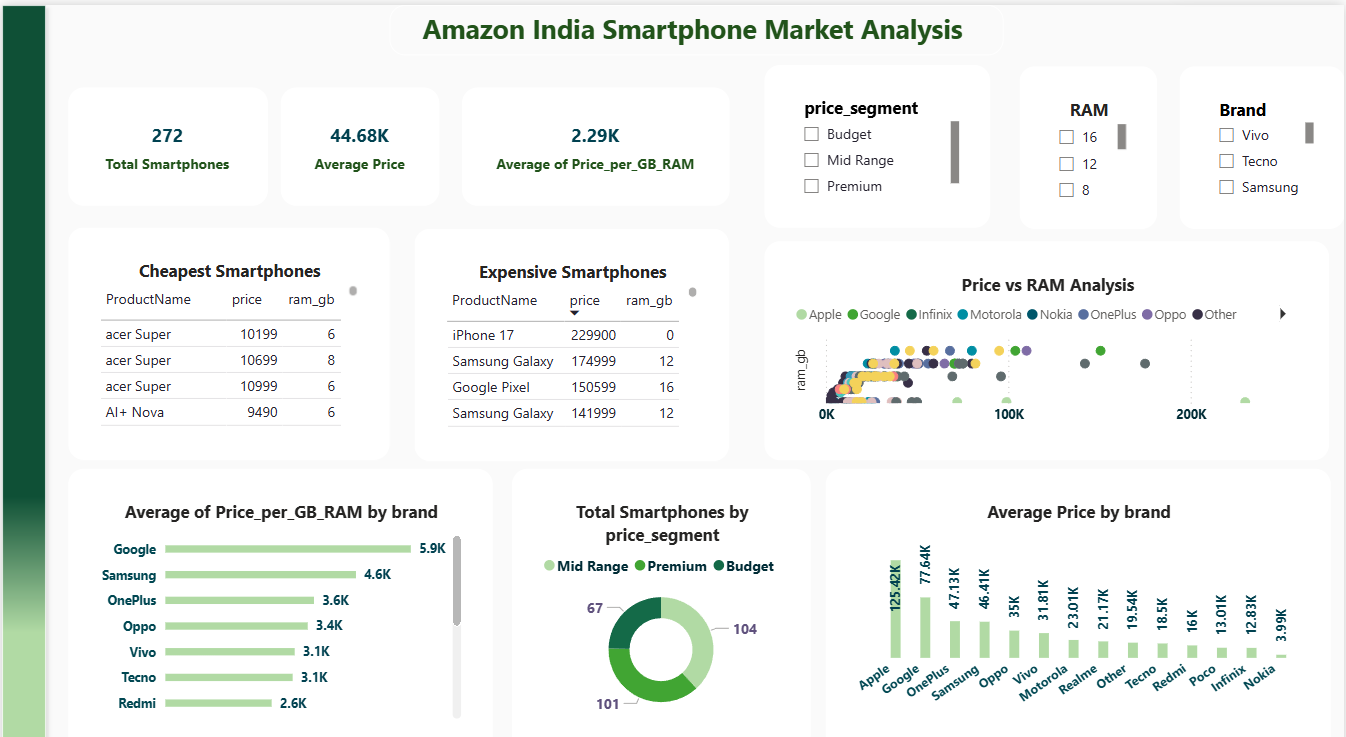

What the dashboard file says about the page in this screenshot:
{"tool":"powerbi","page":{"name":"Page 1","canvas":[1280,720],"ordinal":0},"visuals":[{"type":"card","fields":{"Values":["amazon_smartphones_structured_final.Total Smartphones"]},"box":[63.8,78.8,190,112.5],"z":0},{"type":"card","fields":{"Values":["amazon_smartphones_structured_final.Average Price"]},"box":[266.2,78.8,151.2,112.5],"z":1000},{"type":"donutChart","fields":{"Category":["amazon_smartphones_structured_final.price_segment"],"Y":["amazon_smartphones_structured_final.Total Smartphones"]},"box":[486.2,442.5,285,268.8],"z":2000},{"type":"slicer","fields":{"Values":["amazon_smartphones_structured_final.brand"]},"box":[1122.3,57.9,157.7,155.2],"z":3000},{"type":"slicer","fields":{"Values":["amazon_smartphones_structured_final.price_segment"]},"box":[727.5,57.5,215,155],"z":4000},{"type":"clusteredColumnChart","fields":{"Y":["amazon_smartphones_structured_final.Average Price"],"Category":["amazon_smartphones_structured_final.brand"]},"box":[785,442.5,481.2,268.8],"z":5000},{"type":"barChart","fields":{"Category":["amazon_smartphones_structured_final.brand"],"Y":["Avg(amazon_smartphones_structured_final.Price_per_GB_RAM)"]},"box":[63.8,442.5,405,268.8],"z":6000},{"type":"scatterChart","title":"Price vs RAM Analysis","fields":{"X":["amazon_smartphones_structured_final.price"],"Y":["amazon_smartphones_structured_final.ram_gb"],"Series":["amazon_smartphones_structured_final.brand"]},"box":[727.5,225,538.8,208.8],"z":7000},{"type":"textbox","box":[369.5,0,585.3,47.7],"z":8000},{"type":"slicer","title":"RAM ","fields":{"Values":["amazon_smartphones_structured_final.ram_gb"]},"box":[970,58.8,131.2,155],"z":9000},{"type":"tableEx","title":"Cheapest  Smartphones","fields":{"Values":["amazon_smartphones_structured_final.ProductName","amazon_smartphones_structured_final.price","amazon_smartphones_structured_final.ram_gb"]},"box":[63.8,212.5,306.2,221.2],"z":9001},{"type":"tableEx","title":"Expensive Smartphones","fields":{"Values":["amazon_smartphones_structured_final.ProductName","amazon_smartphones_structured_final.price","amazon_smartphones_structured_final.ram_gb"]},"box":[393.8,213.8,300,221.2],"z":9002},{"type":"actionButton","box":[0,0,100,40],"z":9003},{"type":"card","fields":{"Values":["Avg(amazon_smartphones_structured_final.Price_per_GB_RAM)"]},"box":[438.8,78.8,255,112.5],"z":9004}]}

Visuals, with their boxes in screenshot pixels (x1, y1, x2, y2), scaled from the page's 1280x720 canvas onto the 1346x737 screenshot:
card - amazon_smartphones_structured_final.Total Smartphones: [x1=67, y1=81, x2=267, y2=196]
card - amazon_smartphones_structured_final.Average Price: [x1=280, y1=81, x2=439, y2=196]
donutChart - amazon_smartphones_structured_final.price_segment x amazon_smartphones_structured_final.Total Smartphones: [x1=511, y1=453, x2=811, y2=728]
slicer - amazon_smartphones_structured_final.brand: [x1=1180, y1=59, x2=1345, y2=218]
slicer - amazon_smartphones_structured_final.price_segment: [x1=765, y1=59, x2=991, y2=218]
clusteredColumnChart - amazon_smartphones_structured_final.Average Price x amazon_smartphones_structured_final.brand: [x1=825, y1=453, x2=1331, y2=728]
barChart - amazon_smartphones_structured_final.brand x Avg(amazon_smartphones_structured_final.Price_per_GB_RAM): [x1=67, y1=453, x2=493, y2=728]
"Price vs RAM Analysis" scatterChart: [x1=765, y1=230, x2=1332, y2=444]
textbox: [x1=389, y1=0, x2=1004, y2=49]
"RAM " slicer: [x1=1020, y1=60, x2=1158, y2=219]
"Cheapest  Smartphones" tableEx: [x1=67, y1=218, x2=389, y2=444]
"Expensive Smartphones" tableEx: [x1=414, y1=219, x2=730, y2=445]
actionButton: [x1=0, y1=0, x2=105, y2=41]
card - Avg(amazon_smartphones_structured_final.Price_per_GB_RAM): [x1=461, y1=81, x2=730, y2=196]
